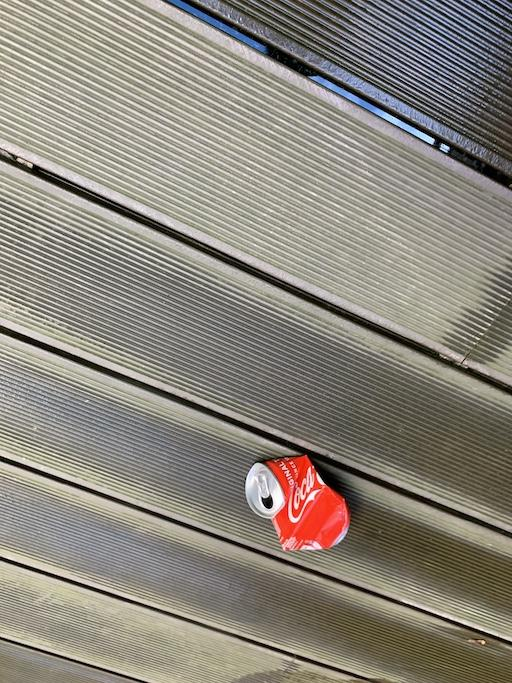Aluminum can: (228, 430, 364, 570)
